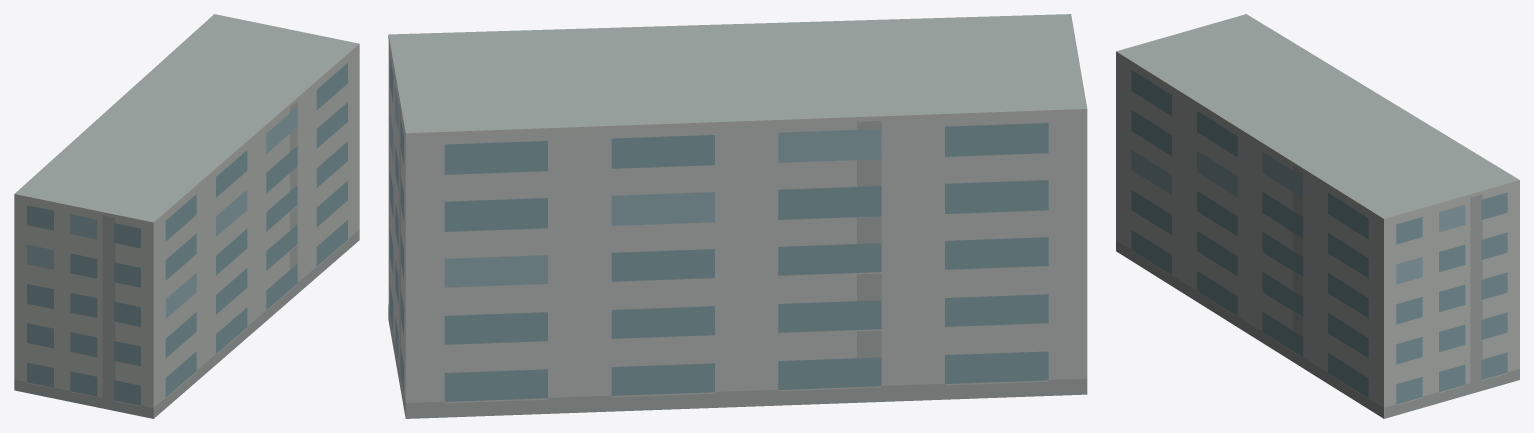
File: survey-upis-32851111.glb
The picture shows the model from 3 angles, left to right: view 1: azimuth 30°, elevation 25°; view 2: azimuth 150°, elevation 25°; view 3: azimuth 270°, elevation 25°; orthographic projection. The views are drawn at different scales.
Visible parts, largest first — view 1: survey-upis-32851111.tmp; view 2: survey-upis-32851111.tmp; view 3: survey-upis-32851111.tmp.
Part boxes in pixels (bbox=[...]): survey-upis-32851111.tmp: bbox=[14, 14, 359, 418]; survey-upis-32851111.tmp: bbox=[388, 14, 1087, 418]; survey-upis-32851111.tmp: bbox=[1116, 14, 1519, 418].
Size of the model in its own units: 33.56 by 15.25 by 27.93.
